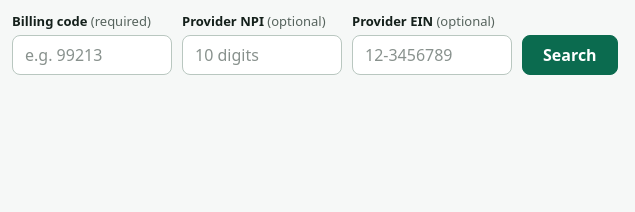
Test case: typing a code lists the matching codes in the file, with their names
The image size is (635, 212).
Type "992" into the dropdown labelled "Billing code (required)" at (92,55), box [12,35,172,75]
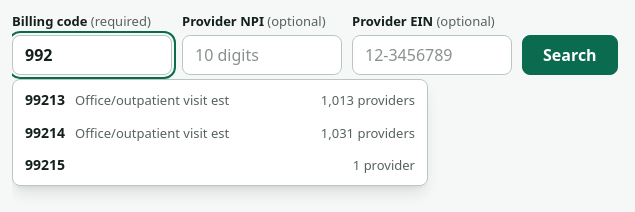
Now the options read "99213Office/outpatient visit est1,013 providers", "99214Office/outpatient visit est1,031 providers", "992151 provider", in this order, box [25,90,415,109]; [25,122,415,142]; [25,155,415,174]
Now the dropdown labelled "Billing code (required)" is expanded, box [12,35,172,75]
